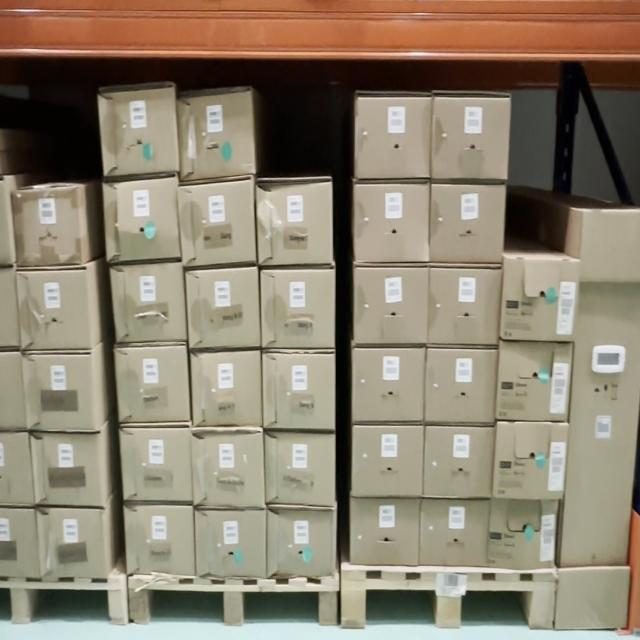box: (560, 210, 640, 567), (99, 84, 178, 175), (500, 258, 579, 341), (103, 176, 181, 260), (257, 180, 332, 264), (16, 268, 91, 351), (497, 340, 573, 421), (111, 262, 187, 342), (434, 98, 509, 179), (354, 184, 430, 262), (22, 352, 97, 431), (183, 180, 253, 264), (356, 100, 431, 178), (186, 268, 260, 347), (119, 424, 193, 501), (114, 347, 189, 422), (354, 267, 428, 343), (262, 270, 335, 347), (180, 96, 252, 174), (11, 187, 81, 267), (31, 431, 104, 507), (192, 430, 264, 507), (494, 423, 567, 498), (430, 187, 502, 262), (263, 353, 335, 428), (190, 351, 261, 426), (352, 348, 424, 421), (431, 268, 498, 346), (37, 508, 108, 580), (487, 497, 558, 567), (266, 435, 335, 505), (353, 428, 423, 496), (124, 507, 194, 575), (428, 350, 493, 423), (195, 511, 266, 577), (425, 430, 494, 494), (268, 510, 334, 576), (422, 501, 487, 566), (351, 500, 418, 562), (0, 505, 40, 580), (0, 428, 34, 506), (0, 349, 27, 428), (0, 265, 21, 348), (0, 177, 14, 263)
